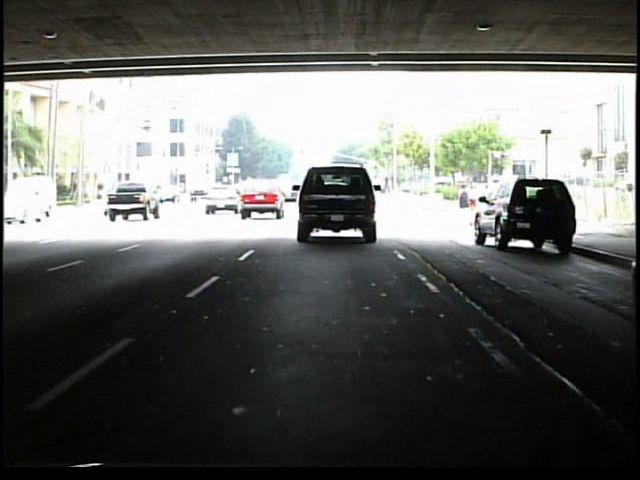person: (455, 182, 470, 214), (467, 185, 477, 210)
